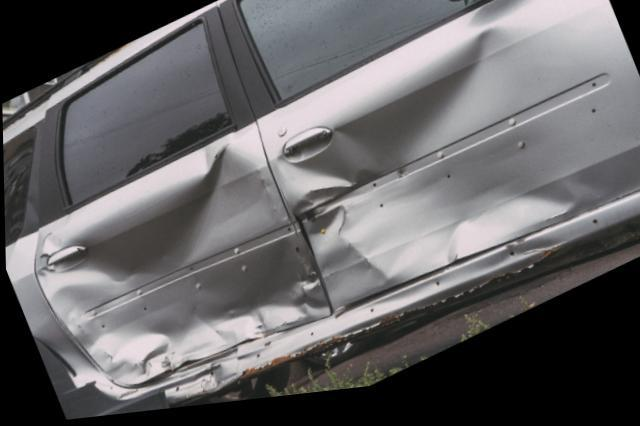dent: (278, 39, 597, 317), (33, 151, 328, 390)
